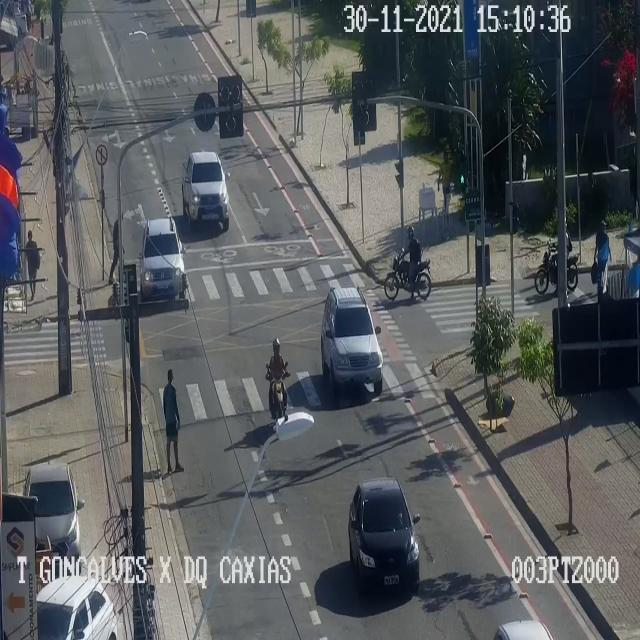Car: (348, 478, 418, 590), (320, 287, 382, 392), (24, 462, 80, 572), (36, 575, 116, 639), (182, 151, 228, 229), (140, 218, 184, 298)
Motorcycle: (384, 225, 431, 299), (534, 222, 578, 292), (265, 338, 289, 417)
